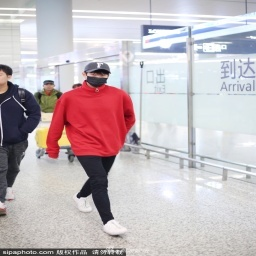correctlyWear: (85, 71, 109, 87)
noWear: (1, 69, 13, 86), (44, 82, 54, 91)
